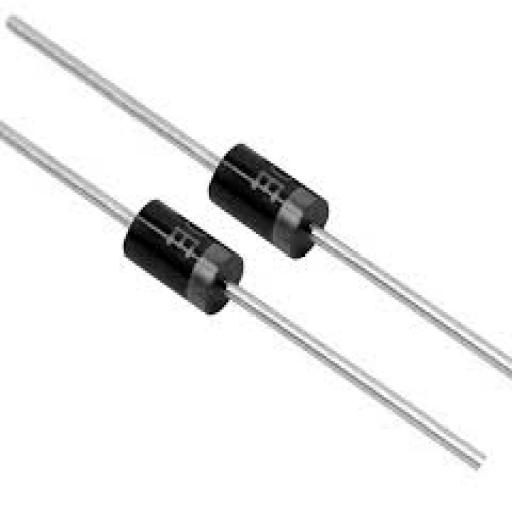DIODE: (2, 51, 512, 512), (188, 106, 380, 276), (99, 168, 283, 334)
